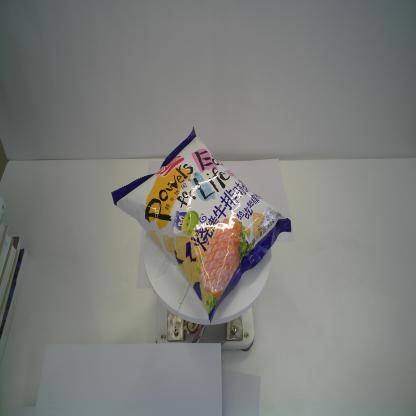Puffed Food: (109, 125, 293, 327)
